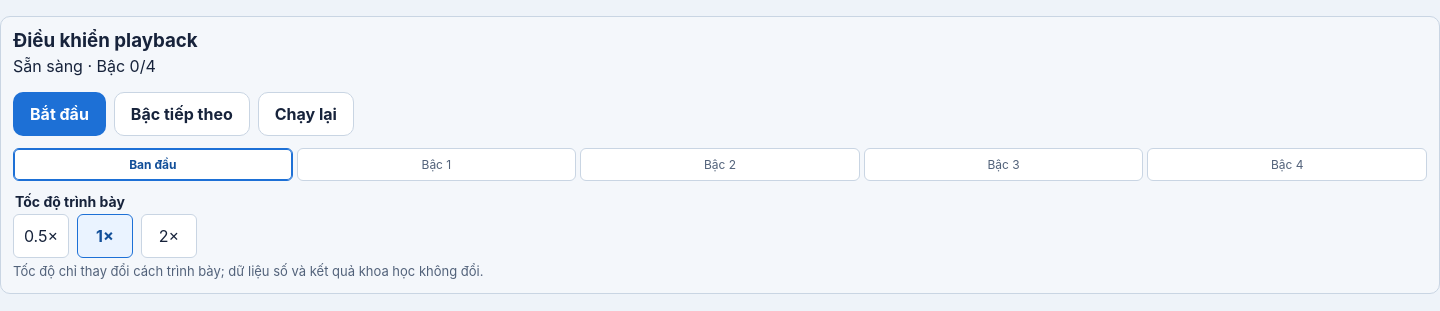
Test: PlaybackControls › supports keyboard-accessible start, pause, resume, speed and restart controls
The width and height of the screenshot is (1440, 311).
Expected: the list named "Tiến trình các bậc đã tính sẵn" is shown, [13,148,1427,181]
Click the button "Bắt đầu": (59, 114) [13,92,106,136]
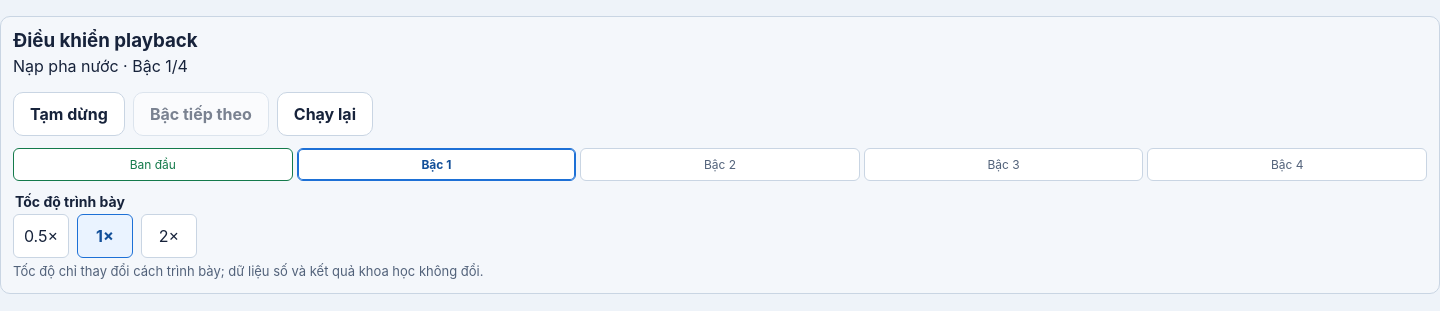
Expected: the message shows "Nạp pha nước", [13,56,119,76]
Click the button "Tạm dừng": (69, 114) [13,92,125,136]
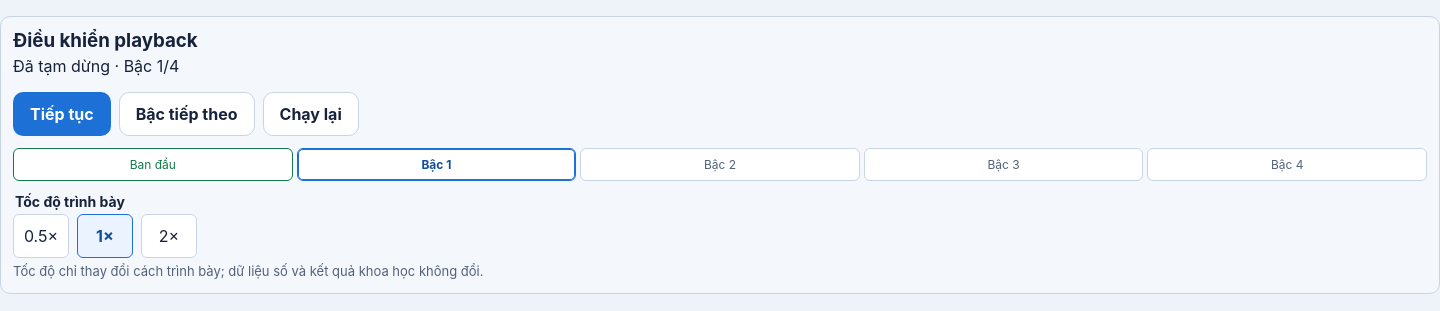
Expected: the message shows "Đã tạm dừng", [13,56,110,76]
Click the button "Tiếp tục": (62, 114) [13,92,111,136]
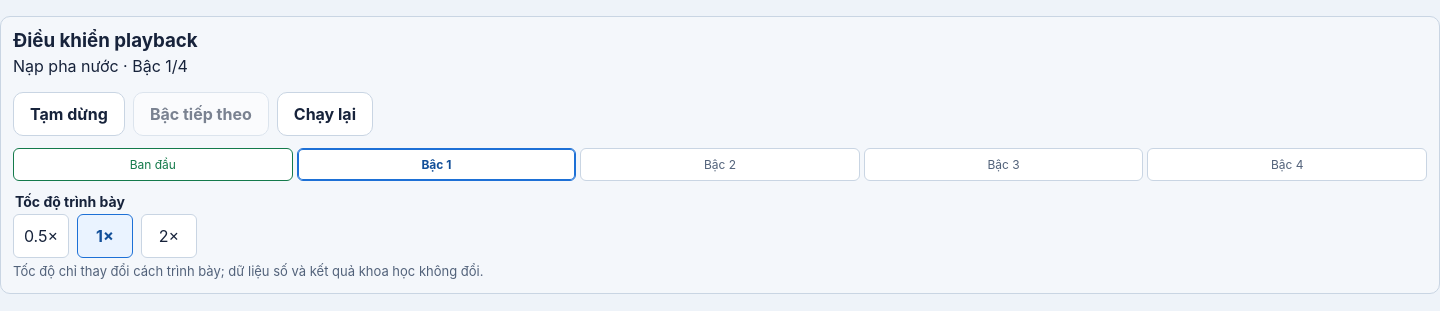
Click the button "2×": (169, 236) [141,214,197,258]
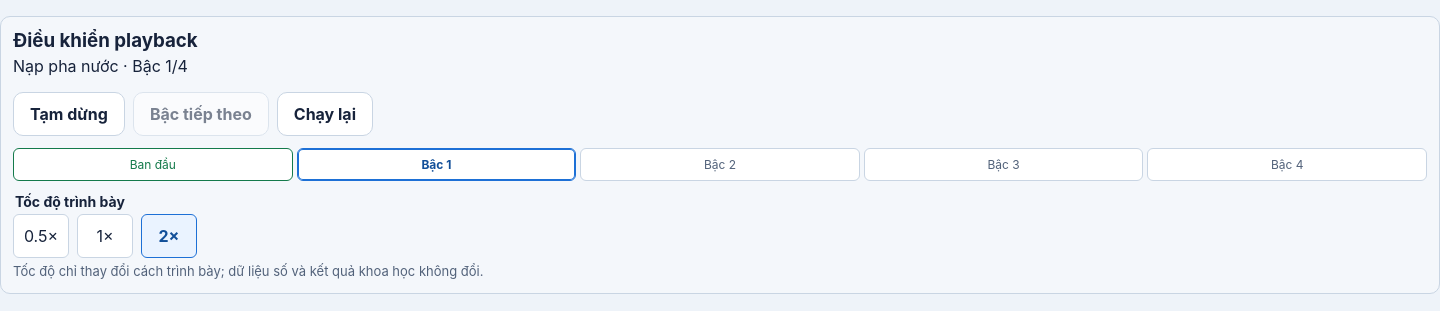
Expected: the button "2×" is pressed, [141,214,197,258]
Click the button "Chạy lại": (325, 114) [277,92,373,136]
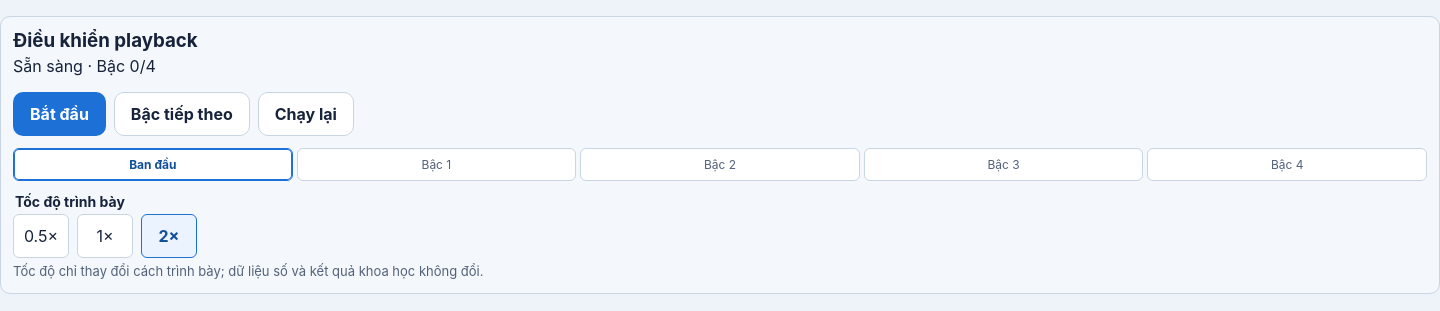
Expected: the message reads "Sẵn sàng · Bậc 0/4", [13,56,156,76]
